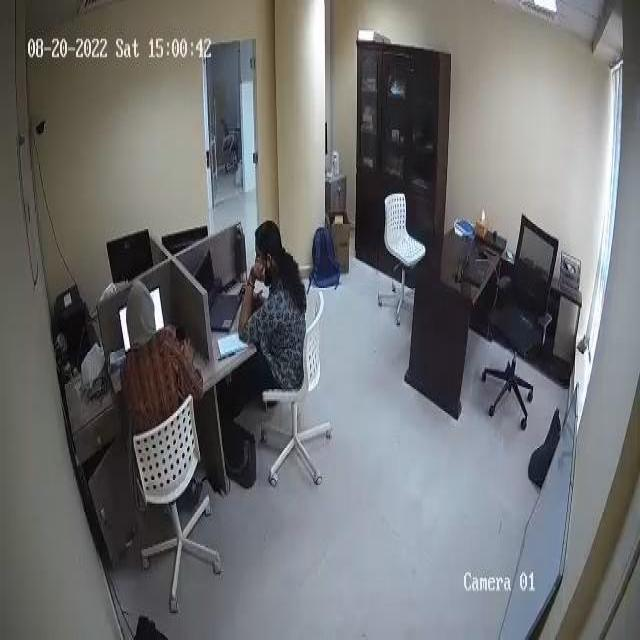bare_hand: (178, 332, 199, 365), (249, 261, 267, 288)
